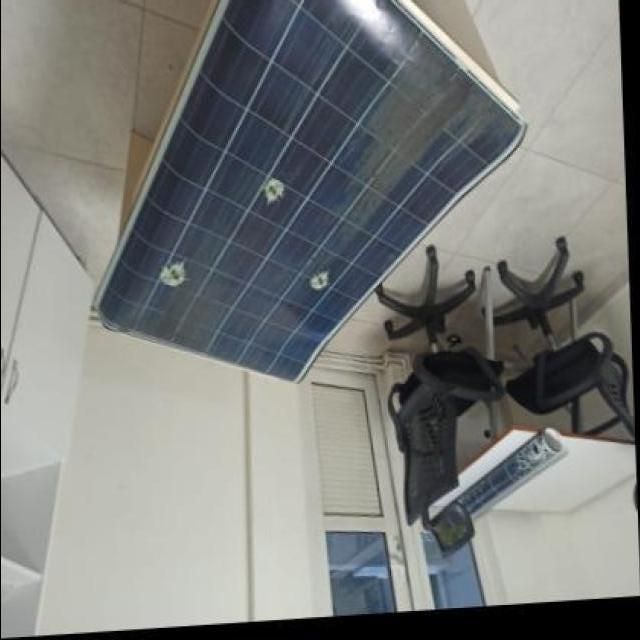soiled: (90, 0, 529, 380)
